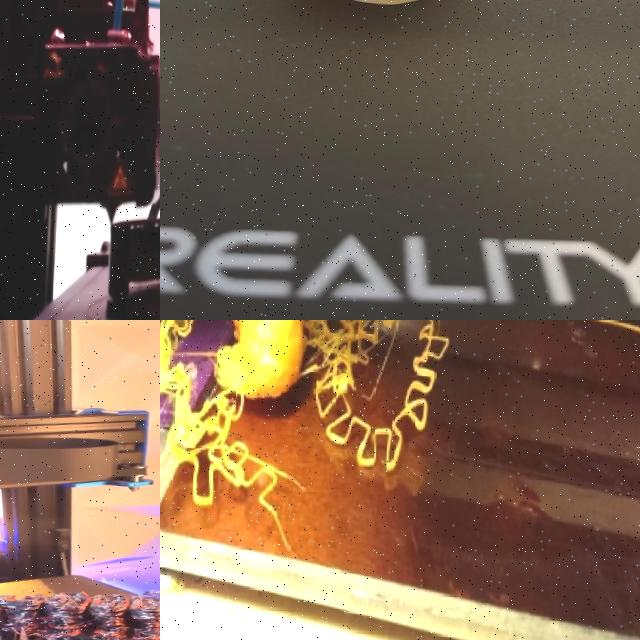spaghetti: (300, 320, 452, 475), (160, 320, 280, 511), (0, 585, 160, 640)
